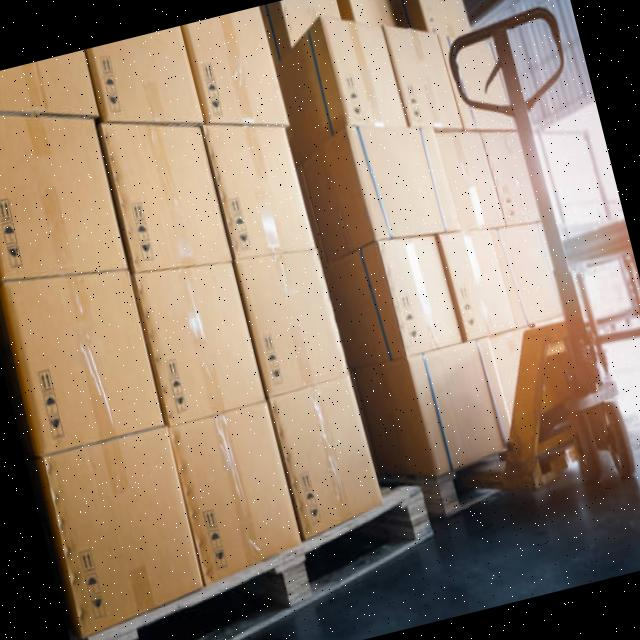Wooden-Pallets: (79, 486, 439, 640)
